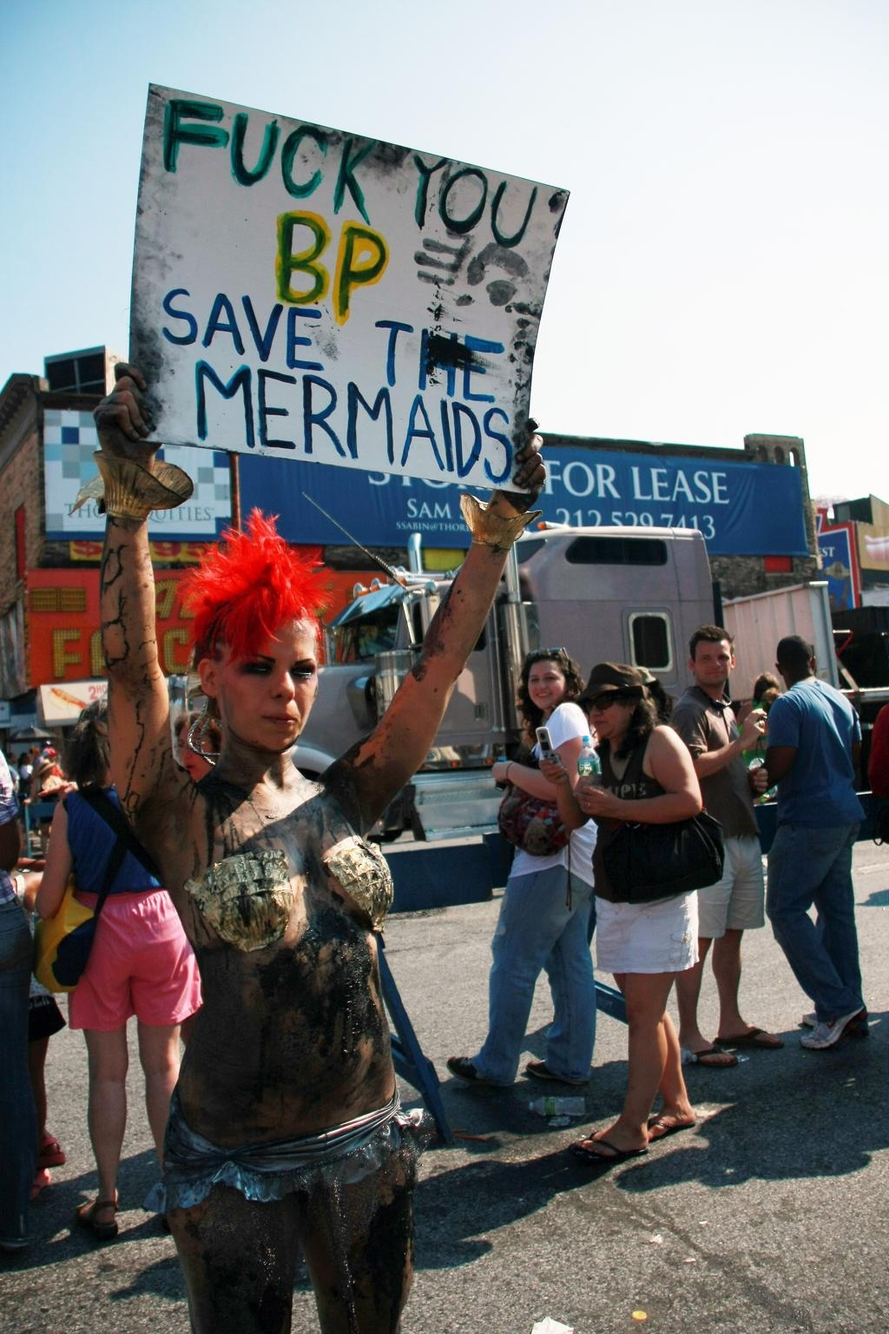human_face: (219, 617, 318, 749), (586, 684, 626, 736), (527, 663, 566, 708), (177, 728, 214, 773), (694, 639, 730, 684)
